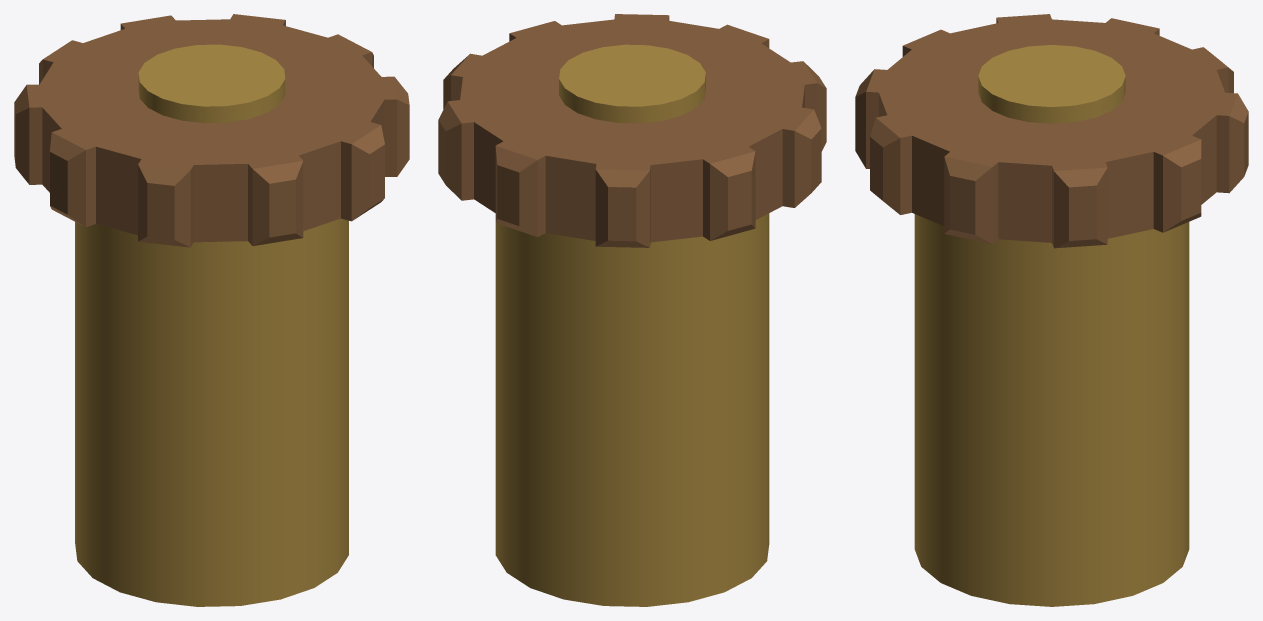
Rendered from GearPiston.fbx.
The picture shows the model from 3 angles, left to right: view 1: azimuth 30°, elevation 25°; view 2: azimuth 150°, elevation 25°; view 3: azimuth 270°, elevation 25°; orthographic projection.
Parts seen in each view (by area): view 1: pCylinder1, pCylinder2, pCylinder3; view 2: pCylinder1, pCylinder2, pCylinder3; view 3: pCylinder1, pCylinder2, pCylinder3.
Boxes of the visible parts, box(x1,y1,x2,y2) form: pCylinder1: box(75, 218, 348, 606); pCylinder2: box(14, 14, 409, 247); pCylinder3: box(138, 44, 285, 123); pCylinder1: box(495, 213, 769, 606); pCylinder2: box(438, 14, 826, 247); pCylinder3: box(559, 44, 705, 123); pCylinder1: box(914, 214, 1189, 606); pCylinder2: box(855, 14, 1248, 248); pCylinder3: box(978, 45, 1125, 123).
Size of the model in its own units: 8.94 by 11.85 by 8.94.
